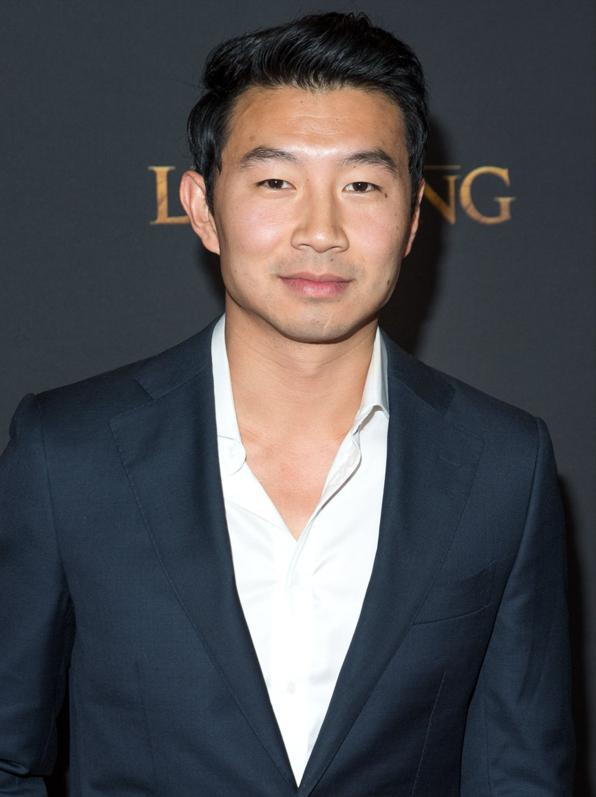Sober: (219, 112, 405, 314)
